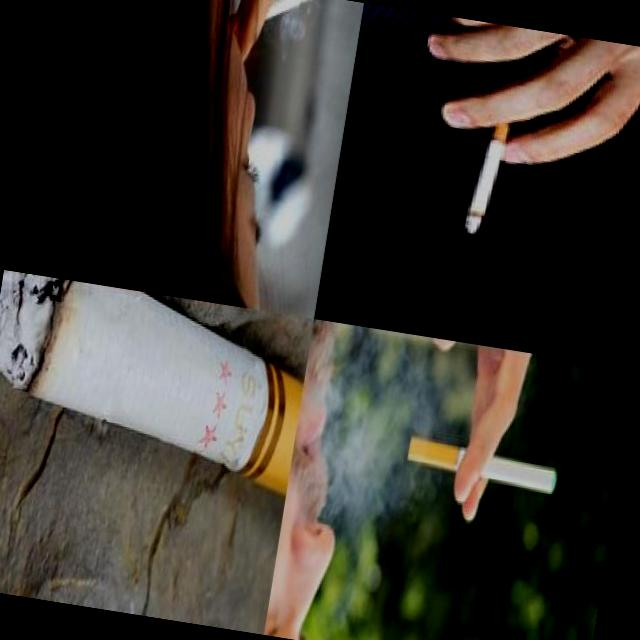cigarette: (0, 272, 313, 531), (404, 436, 560, 498), (465, 124, 514, 246), (222, 0, 314, 48)
